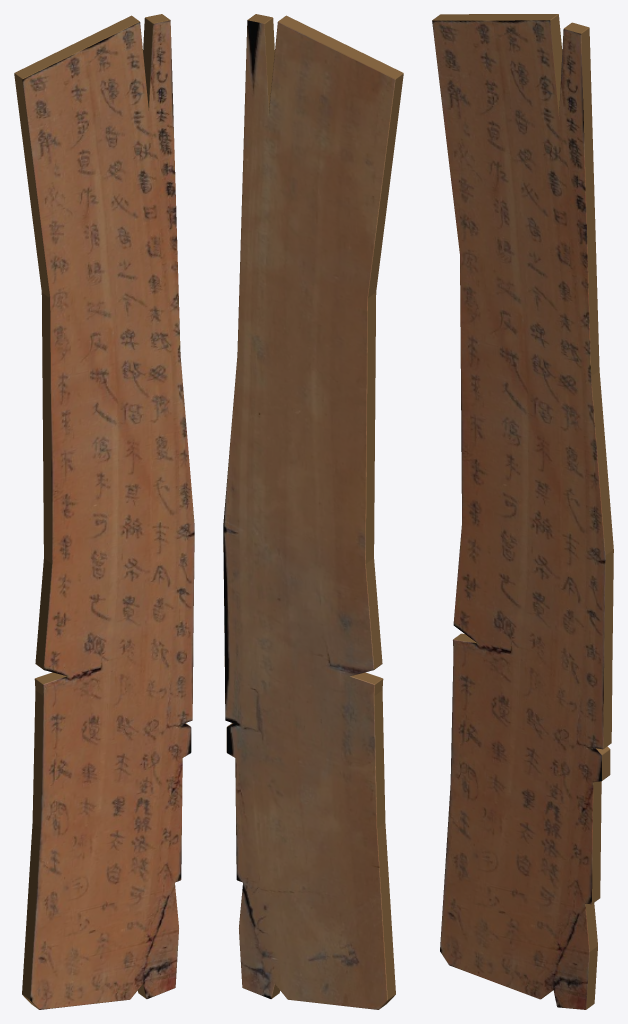
3 renders of one model, left to right at view 1: azimuth 30°, elevation 25°; view 2: azimuth 150°, elevation 25°; view 3: azimuth 330°, elevation 25°, orthographic.
Parts seen in each view (by area): view 1: WEB_A11; view 2: WEB_A11; view 3: WEB_A11.
Boxes of the visible parts, left/top/right/bottom form: WEB_A11: left=14, top=14, right=194, bottom=1009; WEB_A11: left=223, top=14, right=403, bottom=1009; WEB_A11: left=432, top=14, right=613, bottom=1009.
Size of the model in its own units: 0.0404 by 0.2193 by 0.0035.
2 materials, 1 textured.
